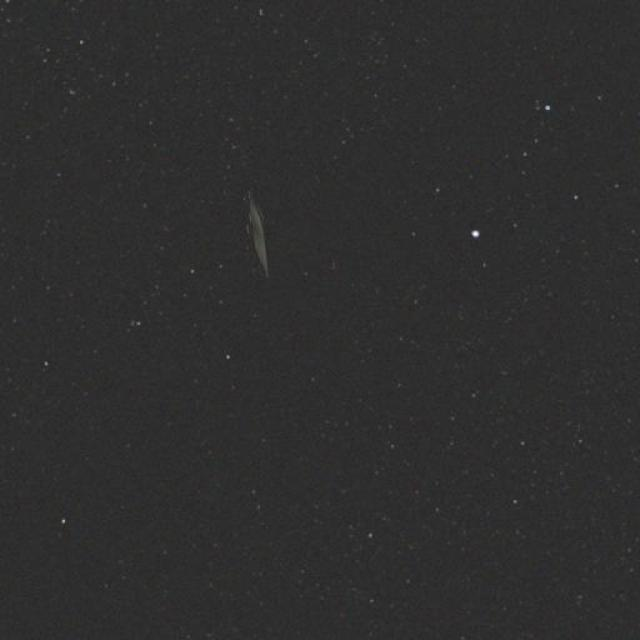proba_3_ocs: (197, 168, 362, 285)
